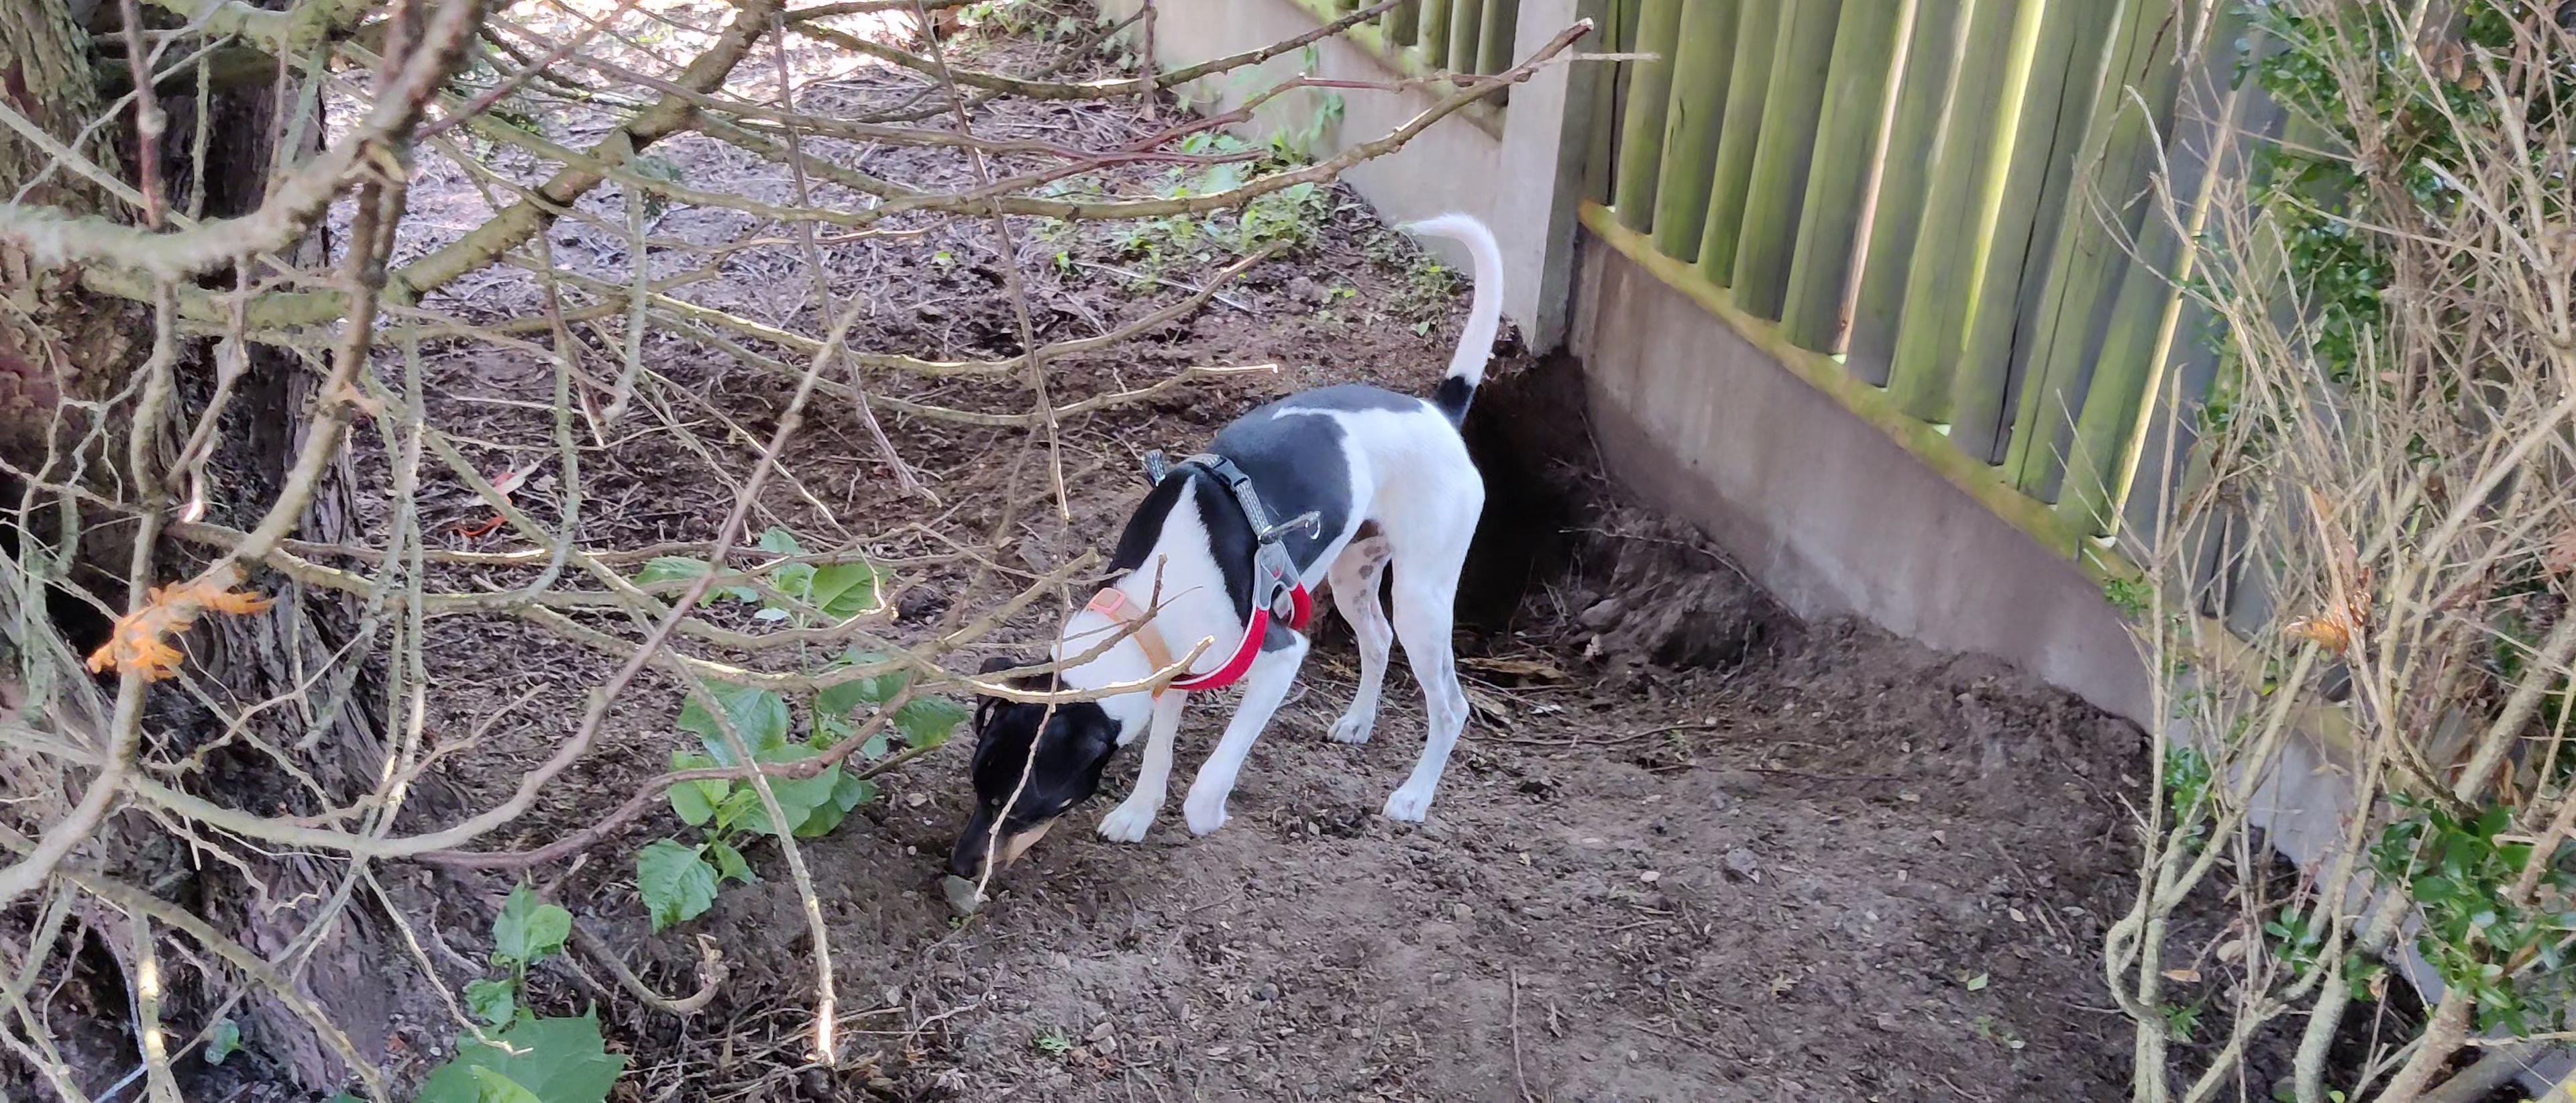Dog: (927, 201, 1541, 902)
